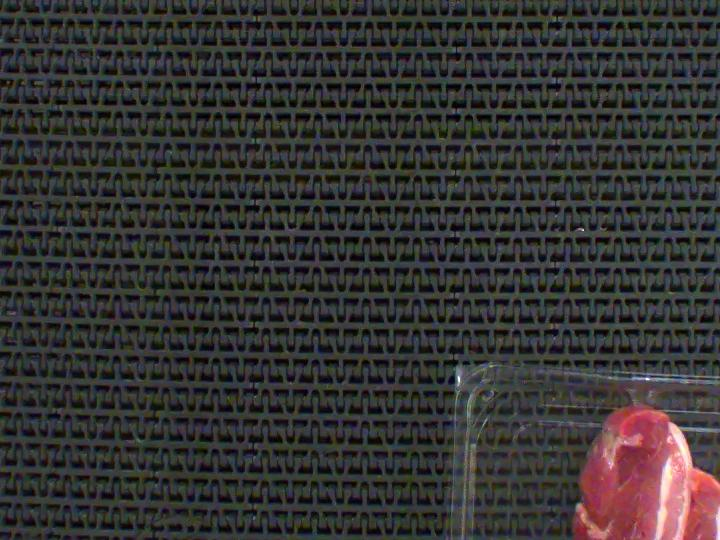packaging-error: (620, 378, 660, 410)
